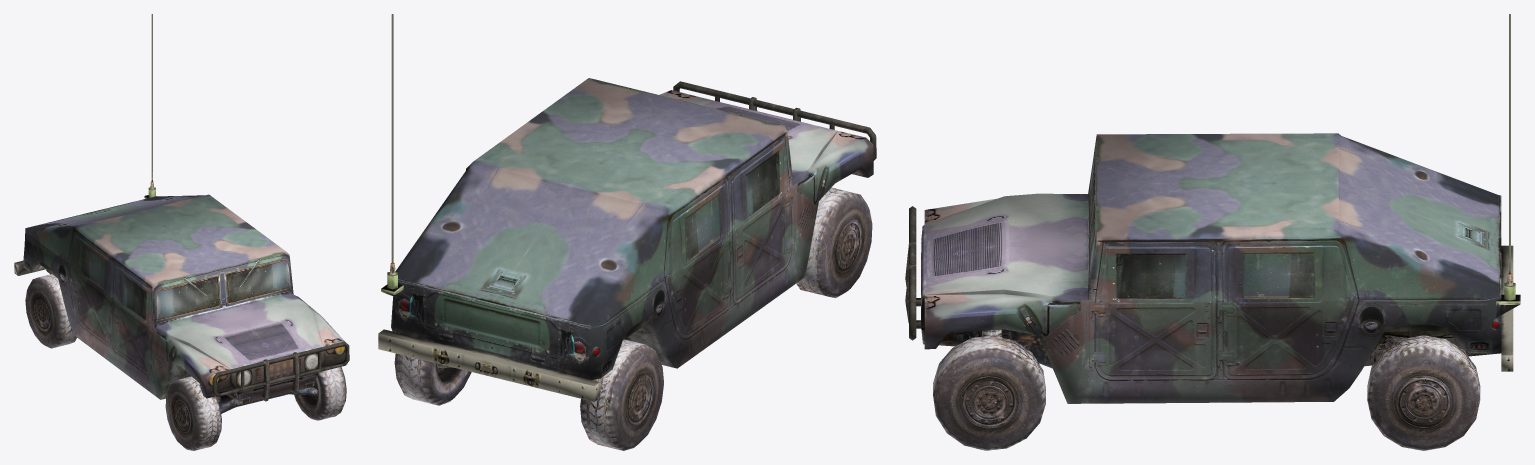
File: humvee.glb
The picture shows the model from 3 angles, left to right: view 1: azimuth 30°, elevation 25°; view 2: azimuth 150°, elevation 25°; view 3: azimuth 270°, elevation 25°; orthographic projection. The views are drawn at different scales.
Visible parts, largest first — view 1: Body, FR_Wheel, BR_Wheel, FL_Wheel, F_Suspension; view 2: Body, BR_Wheel, FR_Wheel, BL_Wheel; view 3: Body, BL_Wheel, FL_Wheel.
Part boxes in pixels (bbox=[...]): Body: bbox=[14, 14, 349, 403]; FR_Wheel: bbox=[165, 376, 221, 450]; BR_Wheel: bbox=[25, 274, 76, 348]; FL_Wheel: bbox=[294, 366, 346, 420]; F_Suspension: bbox=[217, 386, 317, 413]; Body: bbox=[378, 14, 876, 401]; BR_Wheel: bbox=[580, 339, 663, 450]; FR_Wheel: bbox=[796, 187, 872, 298]; BL_Wheel: bbox=[394, 353, 471, 405]; Body: bbox=[905, 14, 1520, 403]; BL_Wheel: bbox=[1367, 335, 1480, 450]; FL_Wheel: bbox=[933, 335, 1045, 450].
Bounding box in the file's own units: 2.19 × 3.92 × 5.07.
1 material, 1 textured.
